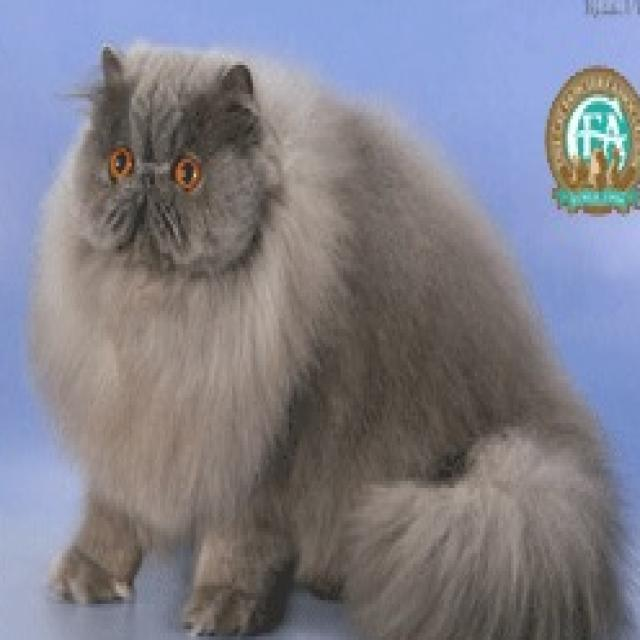Persian: (26, 40, 622, 640)
